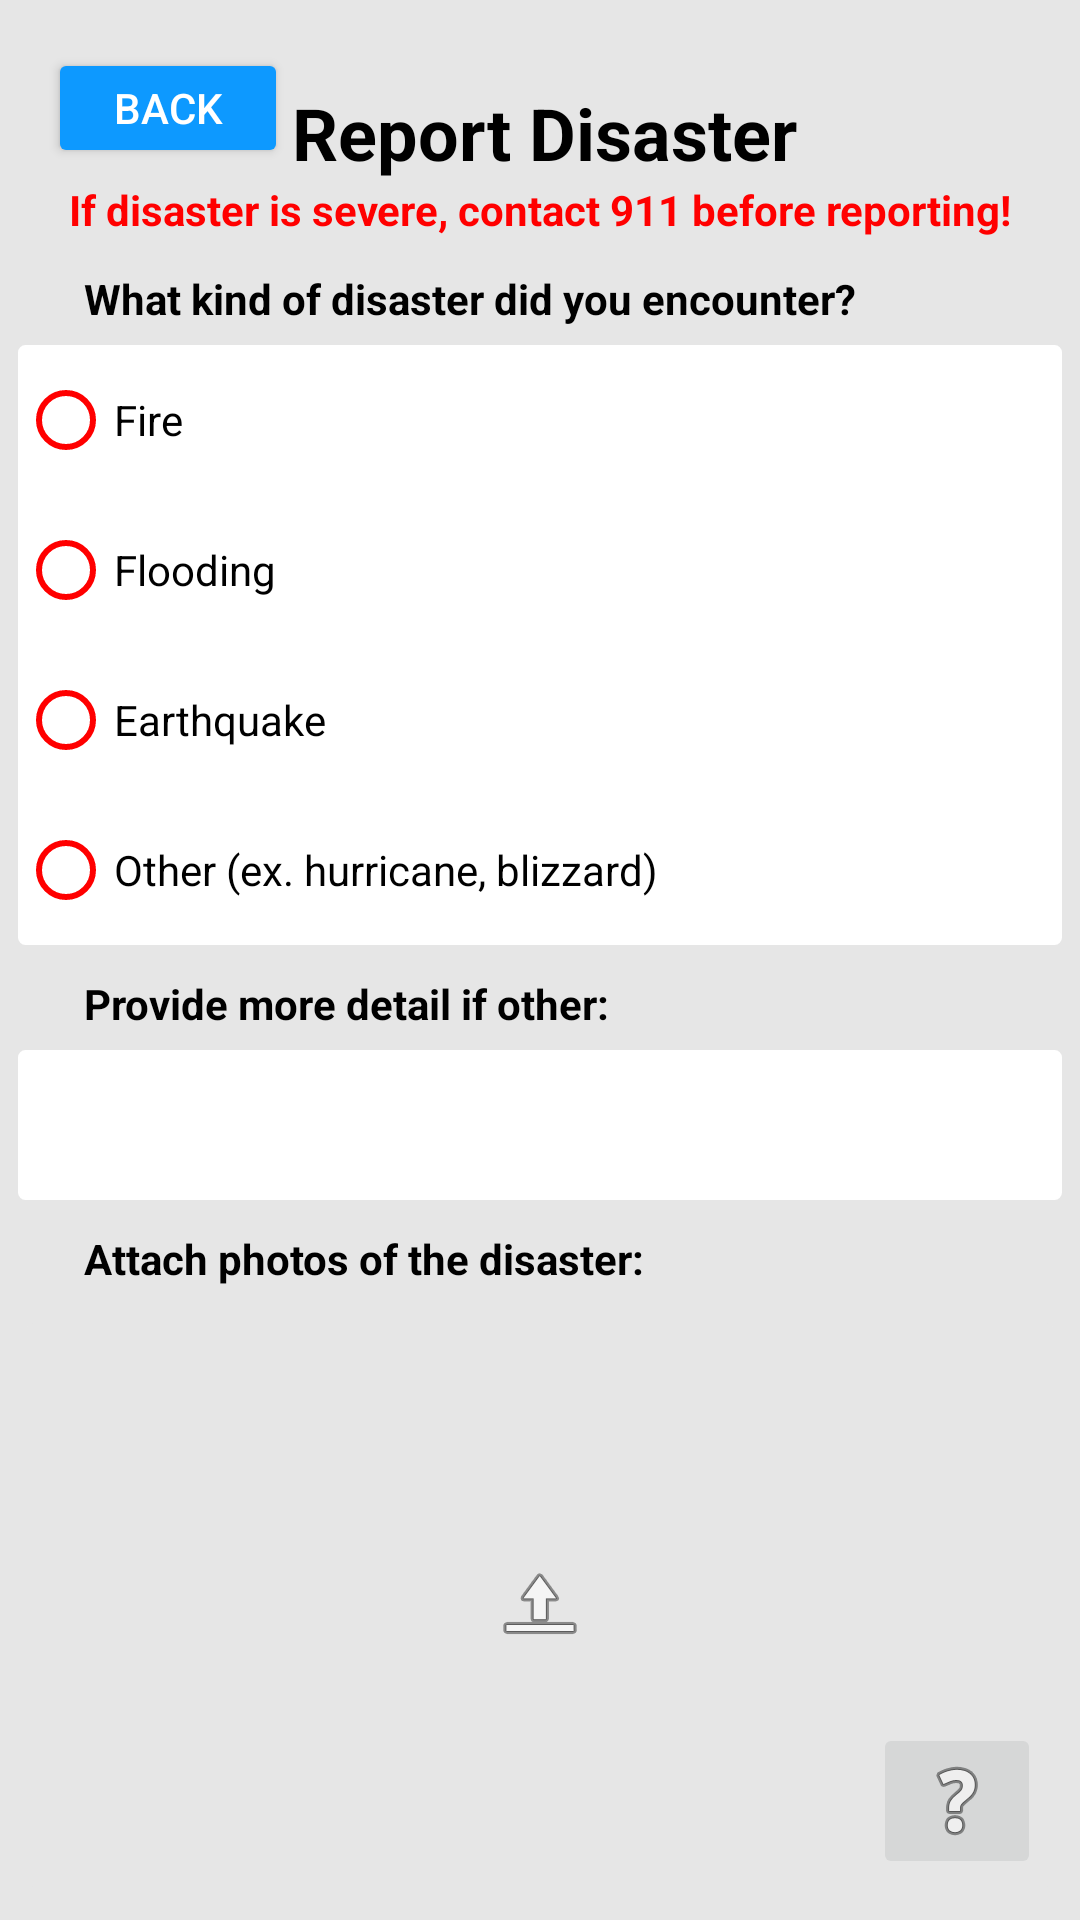

Point at icon controls on the screen. Image size 1080 x 1920, points as [x,y].
help: [957,1801]
